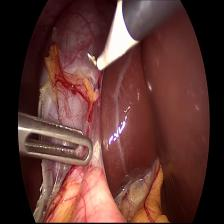Grasper: (15, 109, 94, 170)
Hook: (86, 1, 142, 73)
